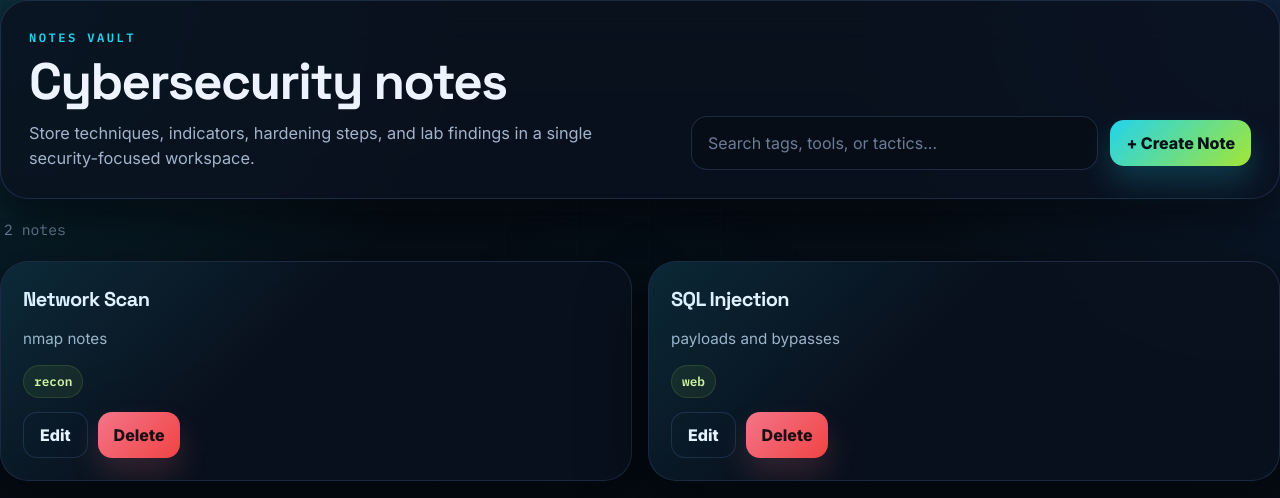
Test: NotesListPage component › loads notes and filters by search query
expect the heading "Network Scan" is shown: met, box [23,284,149,314]
expect the heading "SQL Injection" is shown: met, box [671,284,789,314]
Step 1. Type "sql" into the field with placeholder "Search tags, tools, or tactics..." → (895, 143), box [691,116,1098,170]
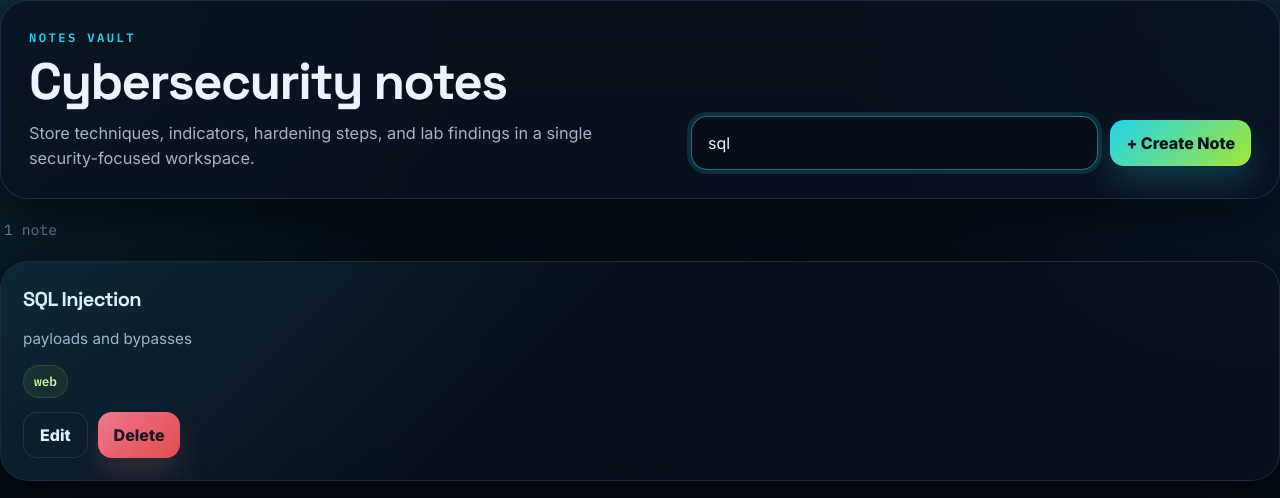
expect the heading "SQL Injection" is shown: met, box [23,284,141,314]
expect the heading "Network Scan" is gone: met
